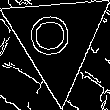O_E: (32, 16, 82, 63)
